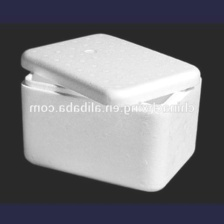foam_box: (16, 28, 206, 195)
